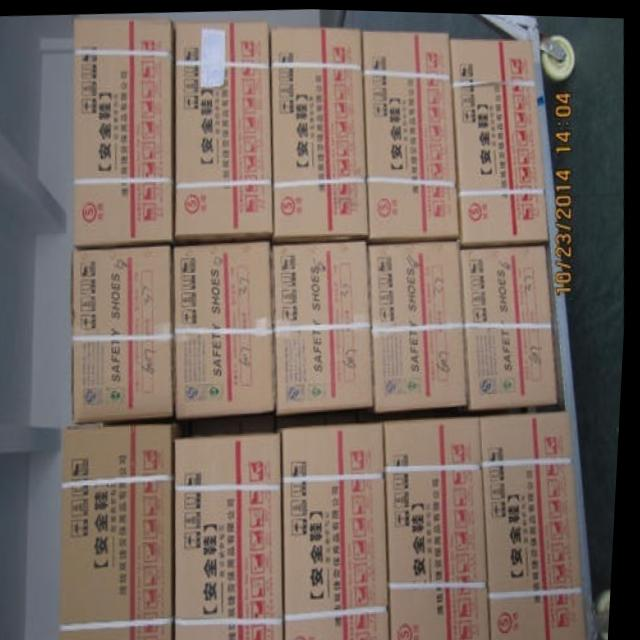box: (67, 418, 181, 640), (483, 408, 592, 637), (285, 420, 396, 640), (389, 414, 497, 640), (75, 20, 176, 246), (179, 433, 289, 640), (174, 20, 275, 244), (361, 28, 463, 237), (273, 22, 370, 241), (451, 34, 549, 245), (272, 233, 379, 409), (74, 242, 177, 422), (177, 242, 281, 416), (372, 235, 473, 412), (465, 239, 561, 404), (178, 411, 282, 435)
